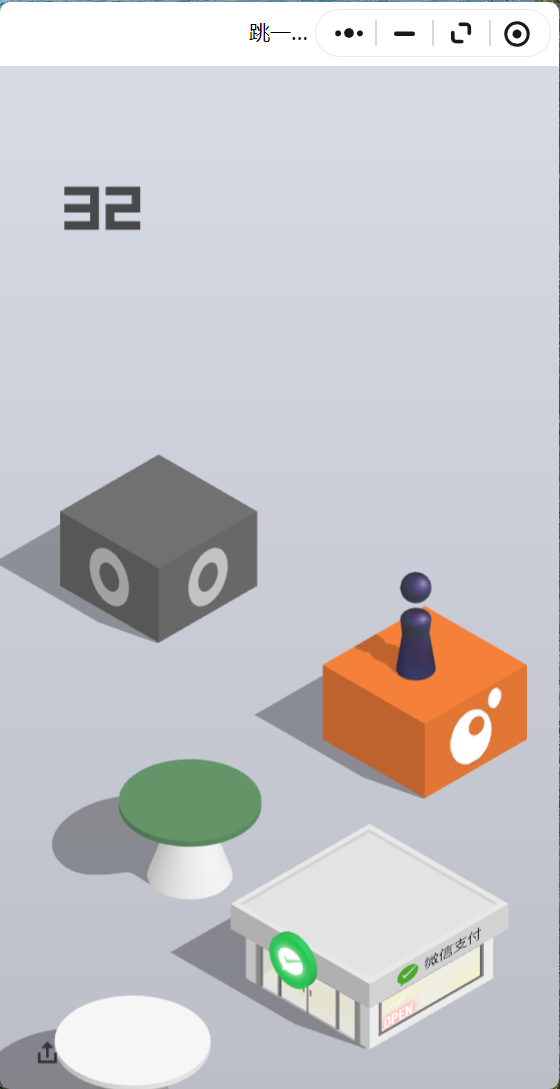piece: (400, 572, 432, 676)
target: (61, 454, 259, 566)
